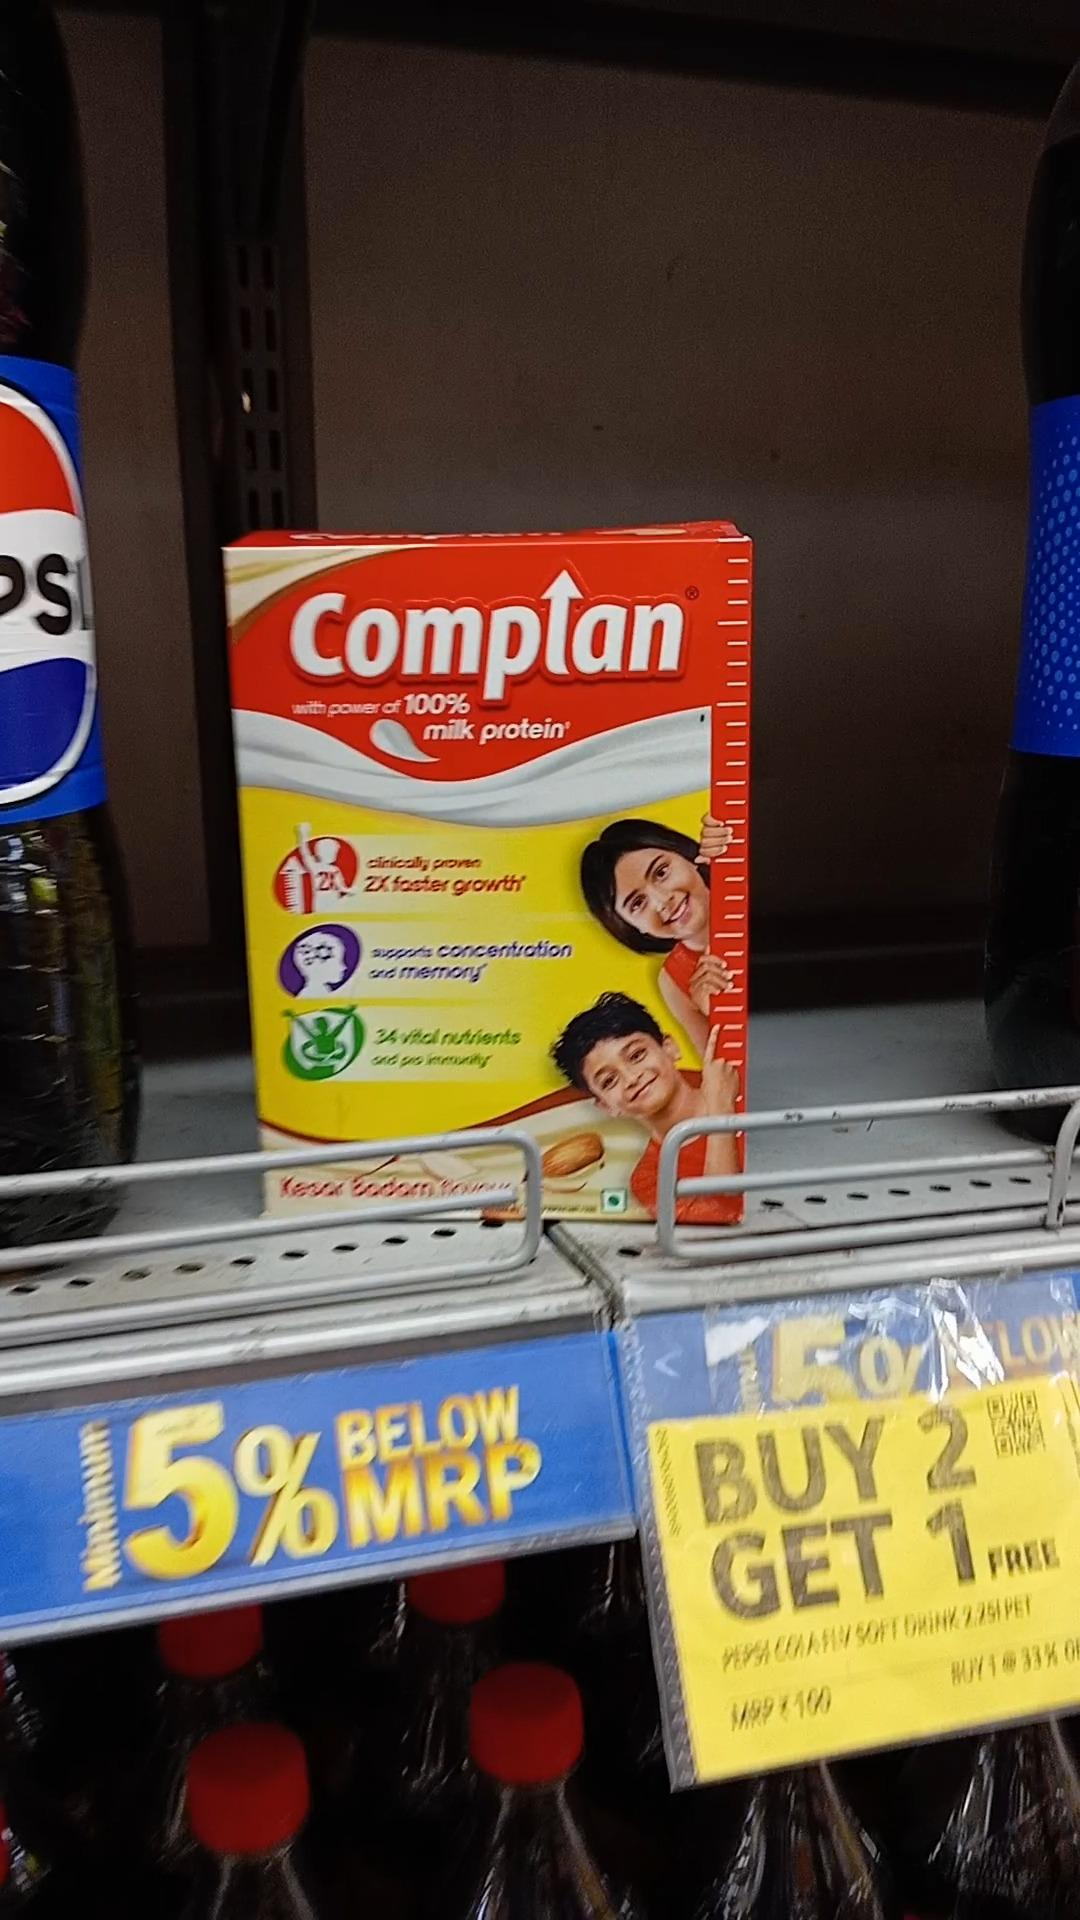COMPLAN_CHOCOLATE_200_GMS_JAR: (237, 547, 749, 1224)
